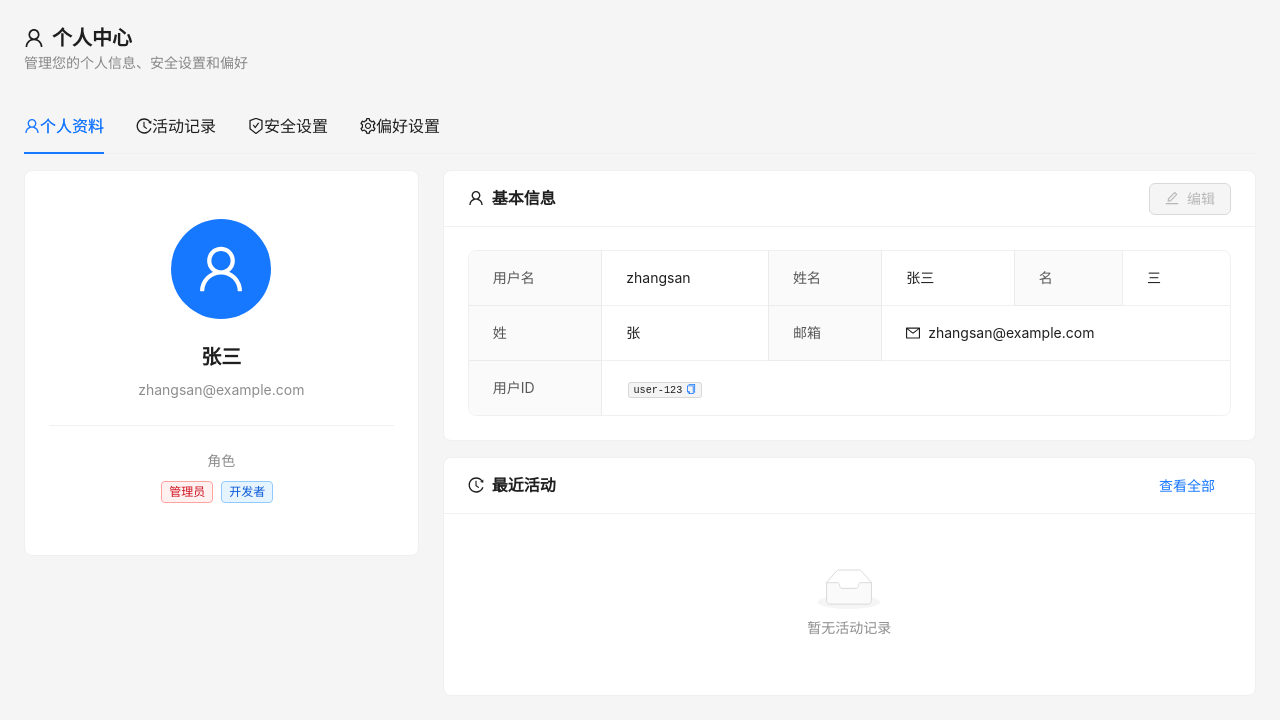
ProfilePage › 修改密码弹窗 › 应该显示修改密码按钮
Click the tab "安全设置" at x=288, y=126, box [248,114,328,138]
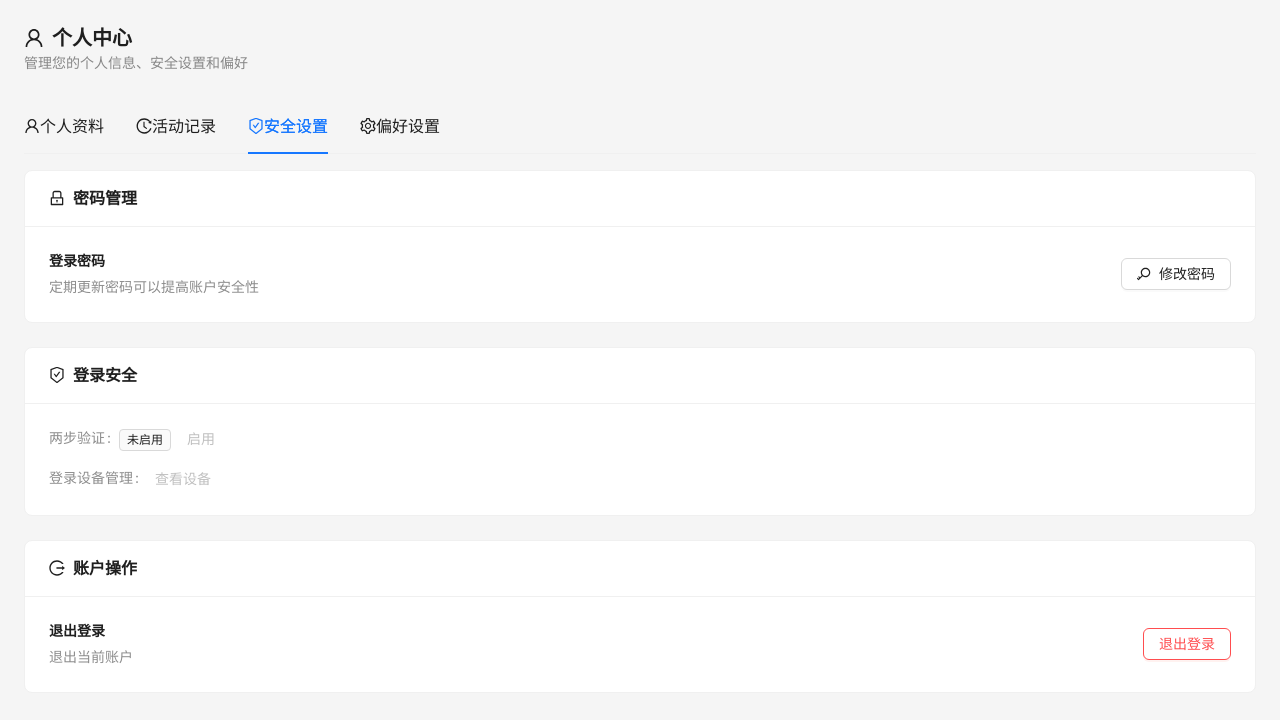
Expected: the text "修改密码" is shown, [1159,263,1215,285]
